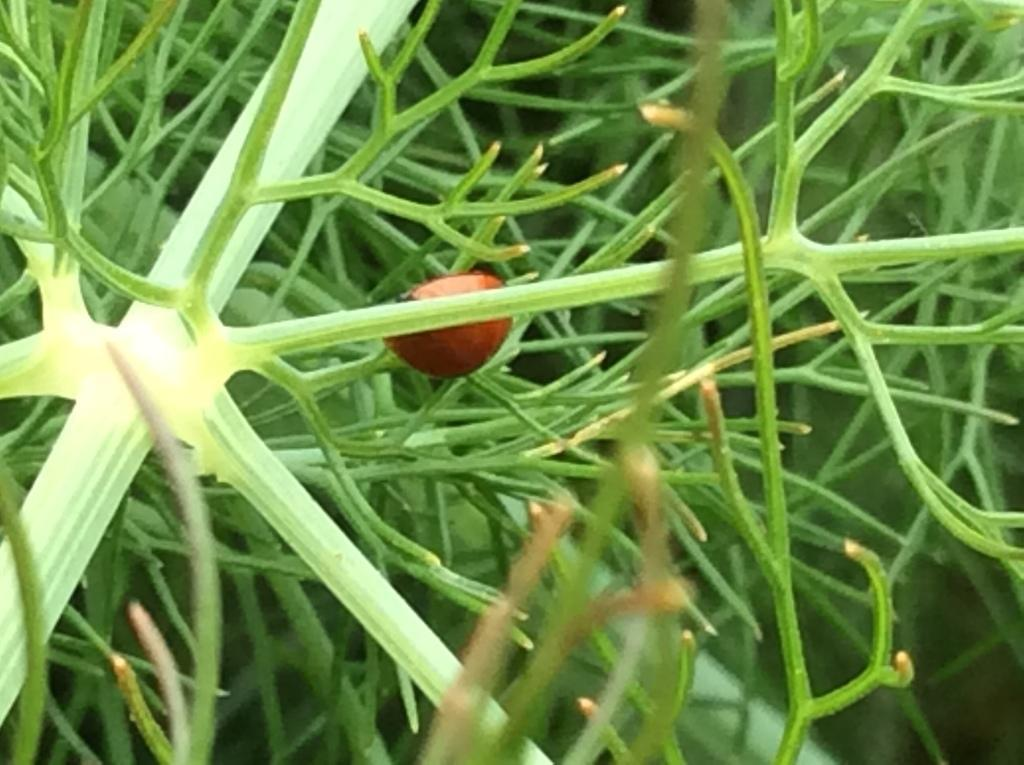ladybug: (381, 265, 515, 385)
